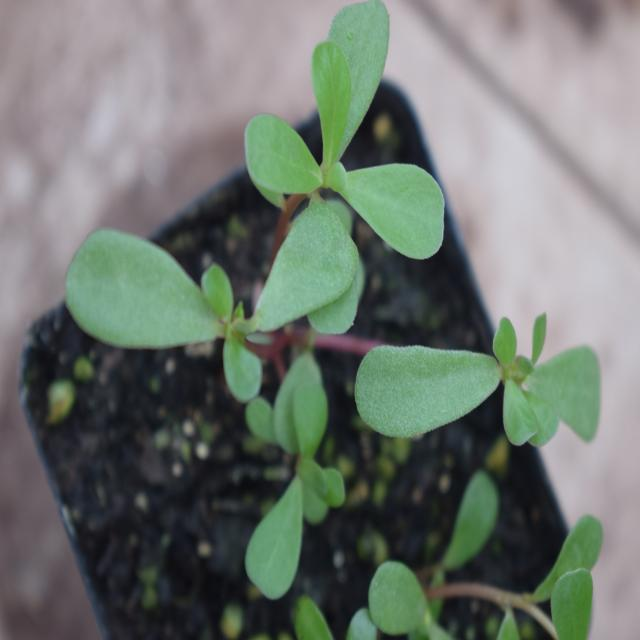purslane: (64, 1, 620, 611)
